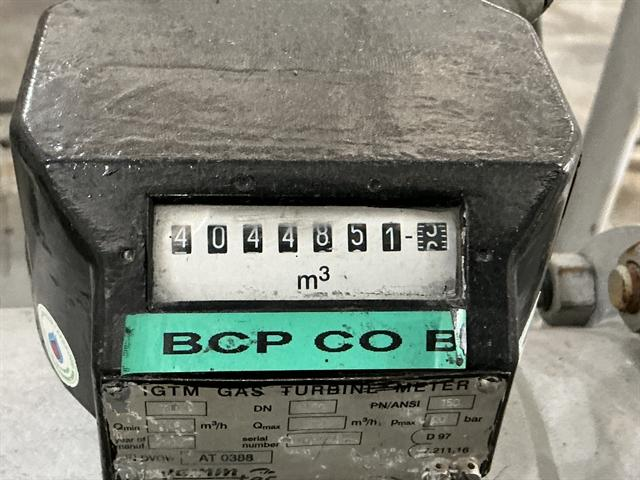analog_dial: (154, 205, 458, 301)
